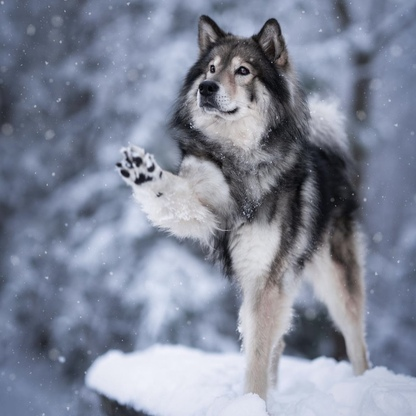husky: (110, 9, 378, 403)
